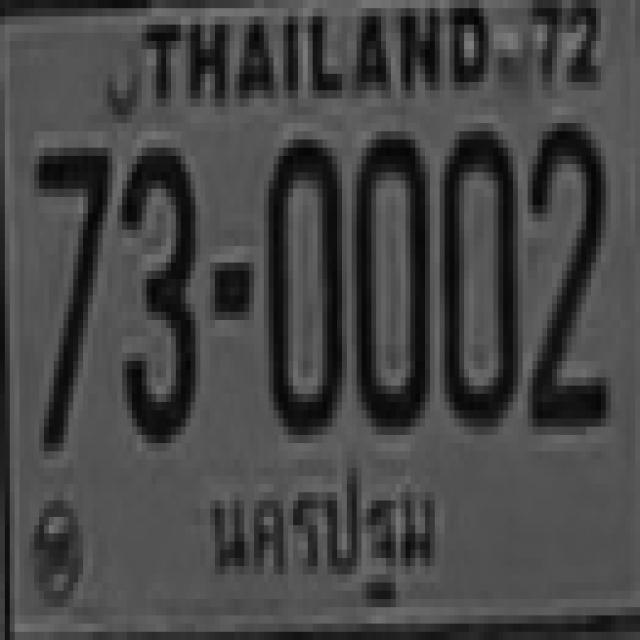0: (264, 131, 342, 427), (352, 127, 425, 423), (440, 123, 513, 419)
2: (526, 119, 604, 423)
3: (120, 139, 193, 435)
7: (34, 140, 108, 443)
NakhonPathom: (201, 450, 452, 624)
